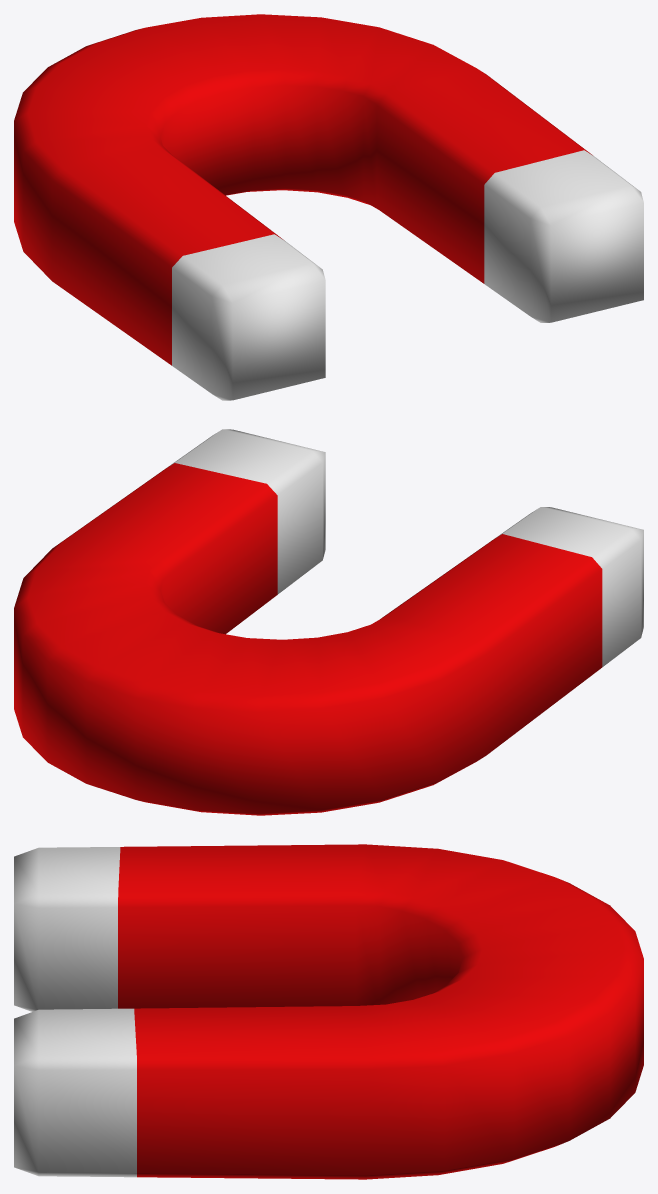
The model's file is Магнит.fbx.
The picture shows the model from 3 angles, top to bottom: view 1: azimuth 30°, elevation 25°; view 2: azimuth 150°, elevation 25°; view 3: azimuth 270°, elevation 25°; orthographic projection. The views are drawn at different scales.
Visible parts, largest first — view 1: Cube.008; view 2: Cube.008; view 3: Cube.008.
Part boxes in pixels (box(x1,y1,x2,y2)): Cube.008: box(14, 14, 643, 400); Cube.008: box(14, 429, 643, 815); Cube.008: box(14, 844, 643, 1179).
Bounding box in the file's own units: 111 × 29.88 × 134.
